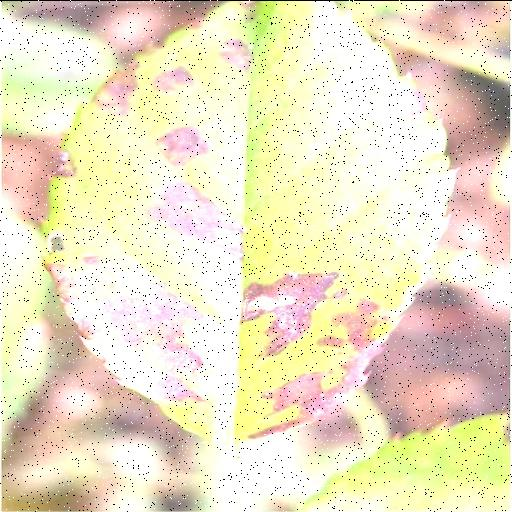downy_mildew: (45, 1, 453, 442)
